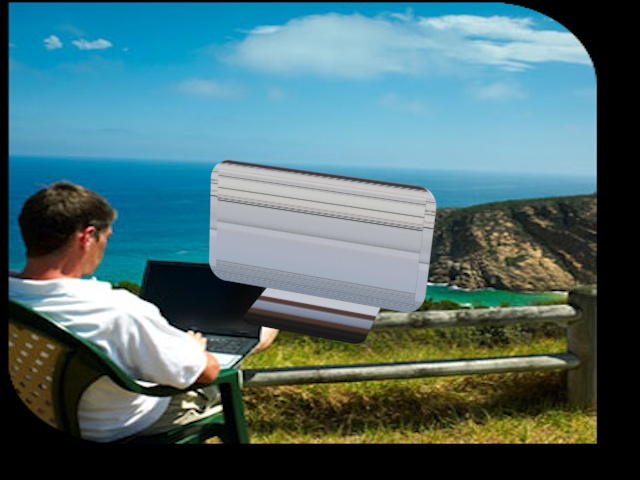monitor: (208, 153, 448, 352)
